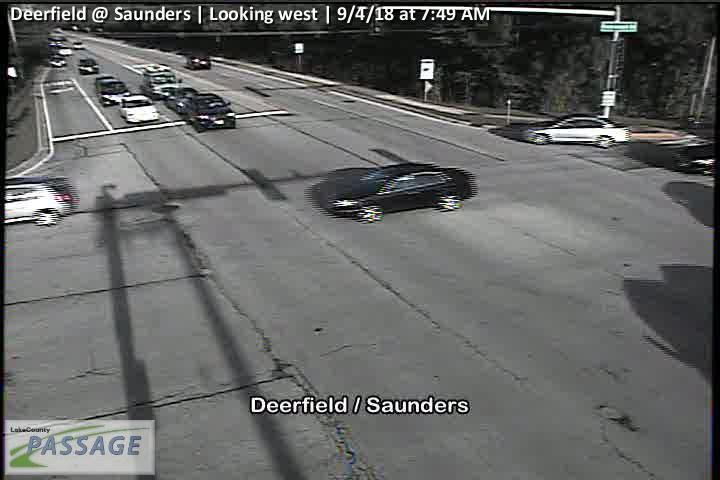SUV: (144, 65, 176, 96), (96, 78, 131, 106), (185, 55, 211, 69)
Sedan: (327, 162, 475, 224), (521, 113, 631, 148), (1, 176, 78, 226), (188, 93, 235, 132), (121, 94, 161, 123), (164, 86, 199, 112), (79, 57, 98, 74)
